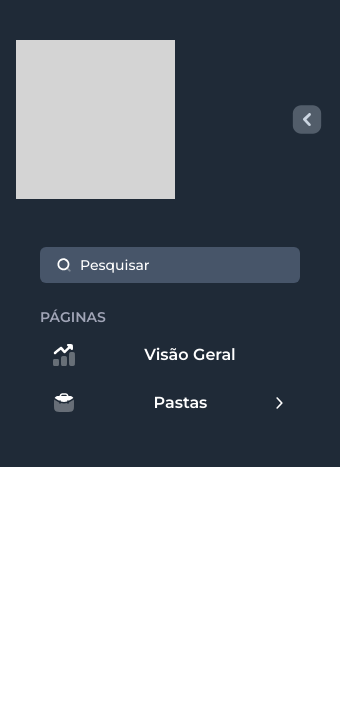
Scenario: Sidebar › should toggle dropdown when folder menu is clicked
Step 1. Click the element showing "Pastas" → (170, 403), box [40,383,300,423]
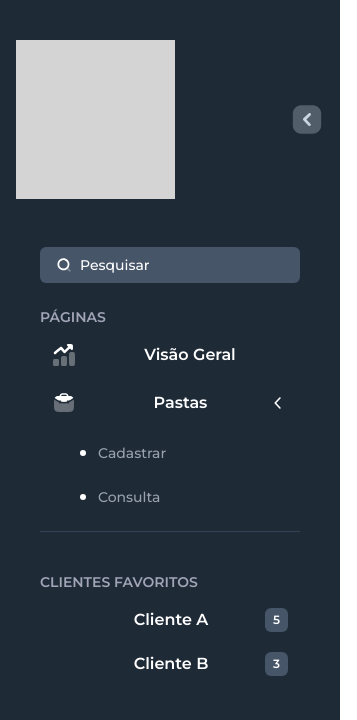
Expected: the link "Cadastrar" is shown, [80,444,166,462]
Expected: the link "Consulta" is shown, [80,488,160,506]
